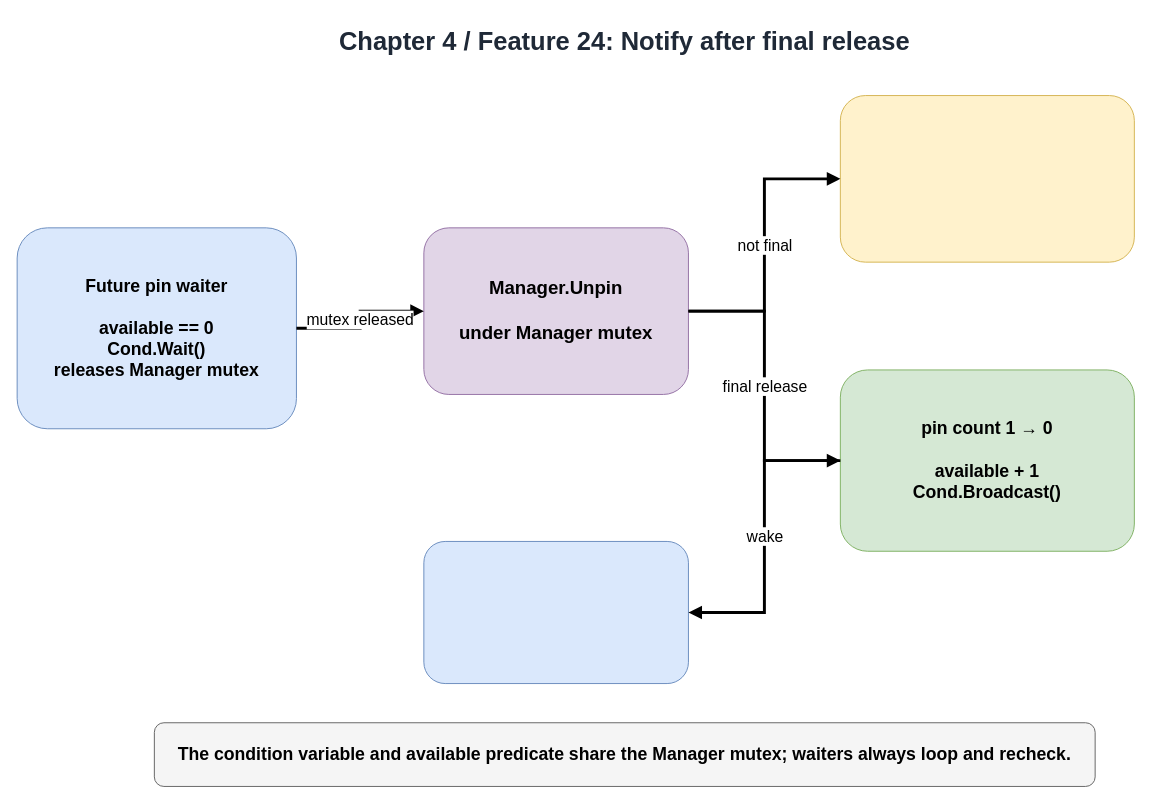
This 1152x804 diagram has some shape labels left out. Each missing label, with the centre of its shape:
"pin count remains > 0 available unchanged no broadcast" belongs at point (986, 178).
"Waiter reacquires mutex rechecks available" belongs at point (555, 612).
